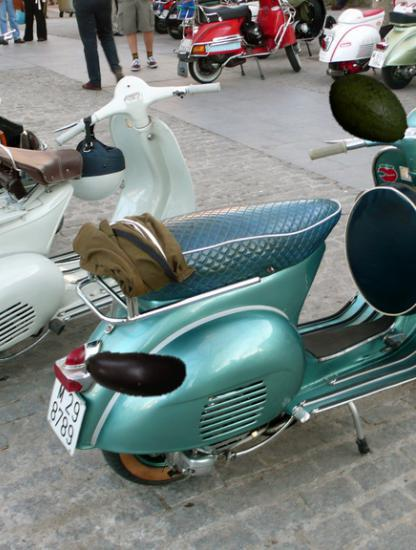Avocado: (323, 66, 413, 156)
Eggplant: (83, 320, 189, 426)
